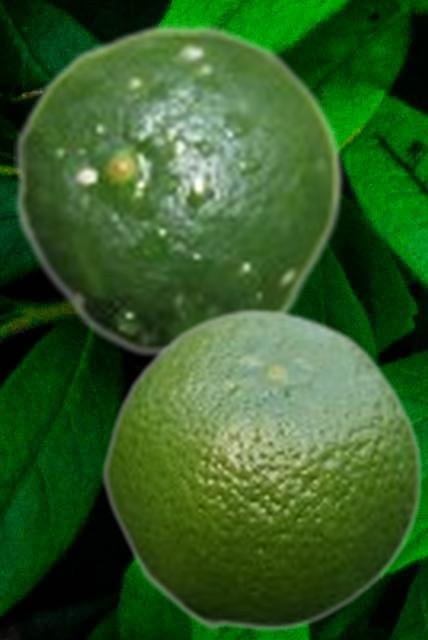calamansi: (13, 23, 344, 358), (100, 305, 423, 631)
